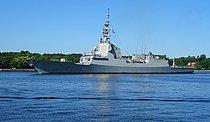MIL_Ship: (24, 23, 199, 75)
